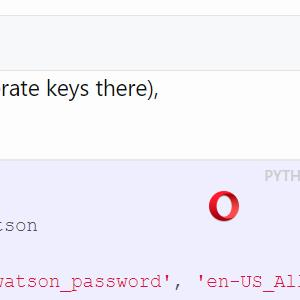opera: (209, 191, 239, 221)
